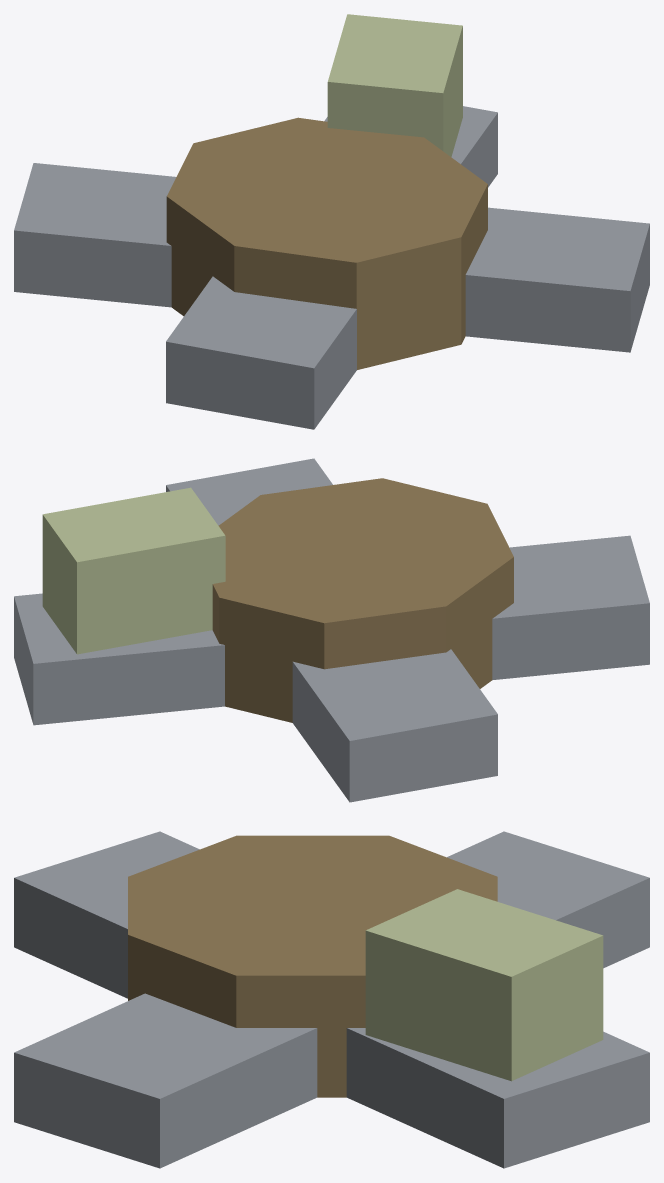
Rendered from item_rm_component_a.obj.
3 renders of one model, top to bottom at view 1: azimuth 30°, elevation 25°; view 2: azimuth 150°, elevation 25°; view 3: azimuth 270°, elevation 25°, orthographic. The views are drawn at different scales.
Bounding box in the file's own units: 0.897 × 0.272 × 0.901.
